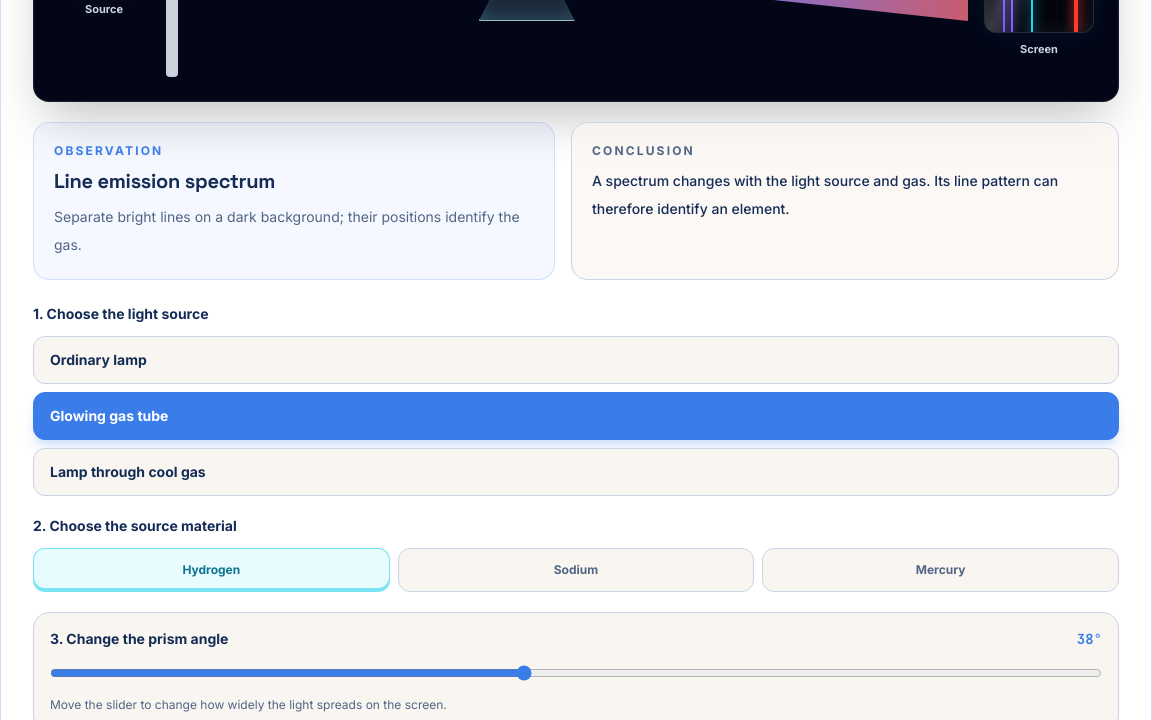
Scenario: SpectrumTypesActivity › changes the spectrum without an MCQ block
This screenshot has width=1152, height=720.
(page scrolled)
expect the heading "Line emission spectrum" is shown: met, box [54,168,275,194]
Click the button "Ordinary lamp". click: (98, 360)
box: [33,336,1119,384]
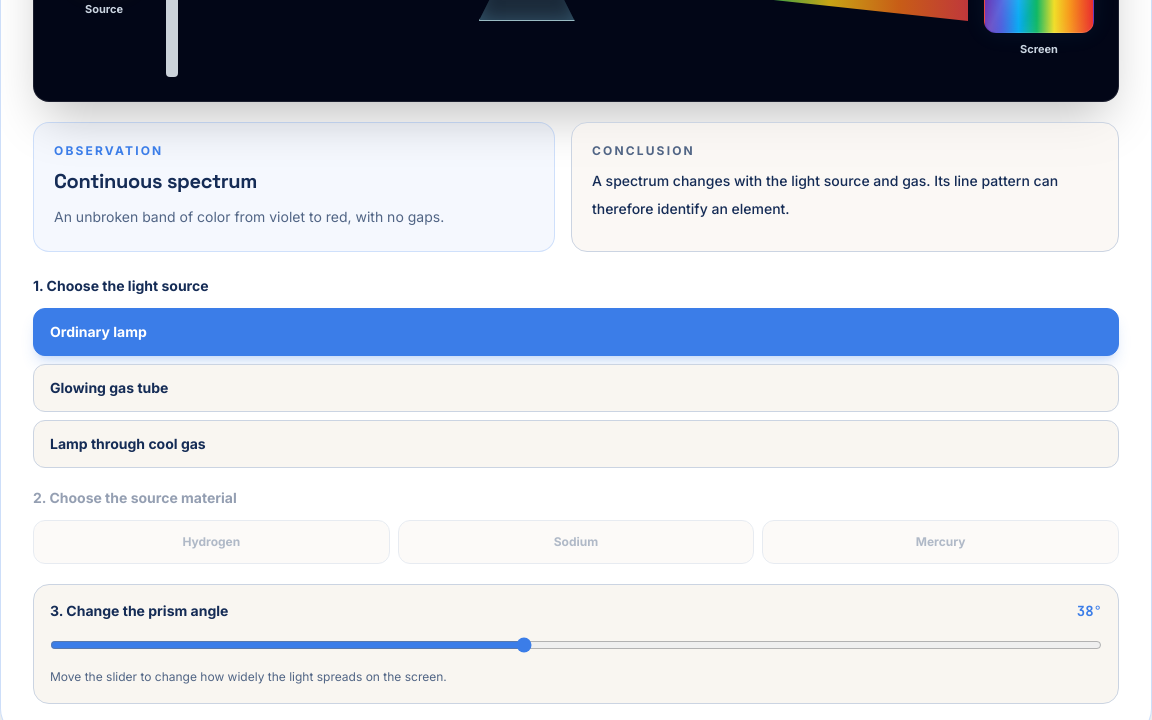
expect the heading "Continuous spectrum" is shown: met, box [54,168,257,194]
